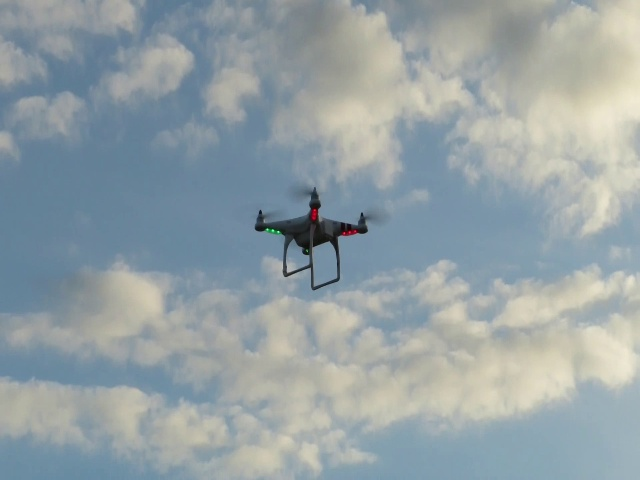drone: (248, 179, 389, 290)
